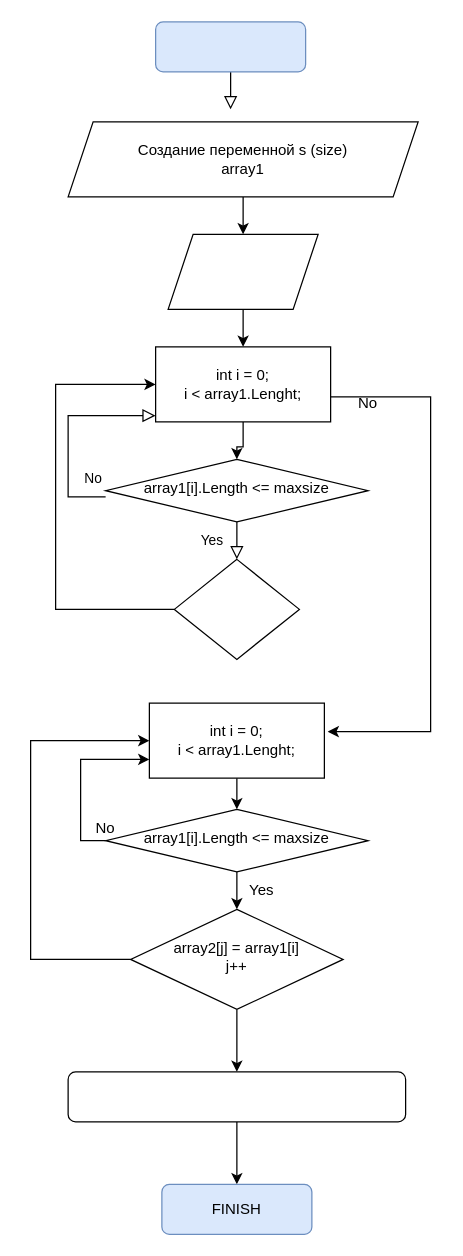
Image size: 463x1256. Some labels were removed from this diagram. Each missing label, with the centre of its shape:
"Console.Write(Полученный массив)" goes at [236,1096].
"START" goes at [230,46].
"сount = 0 maxsize = 0" goes at [242,271].
"сount++ i++" goes at [236,608].
